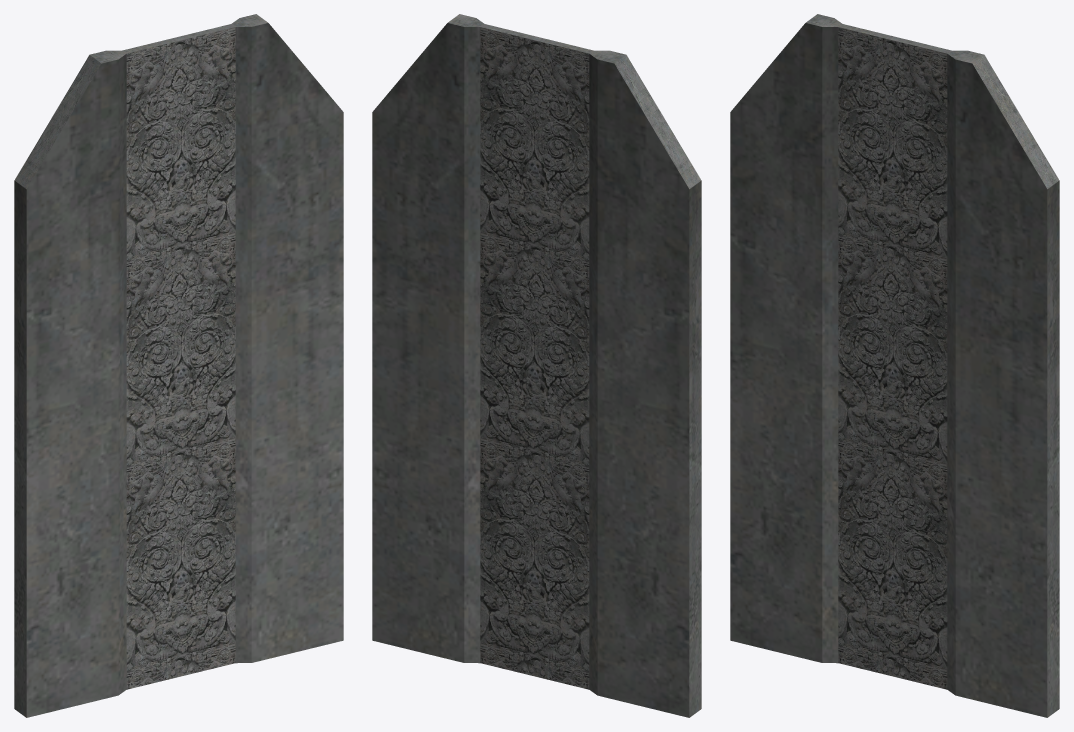
File: door_djt_hall_tall_l0.fbx
The picture shows the model from 3 angles, left to right: view 1: azimuth 30°, elevation 25°; view 2: azimuth 150°, elevation 25°; view 3: azimuth 330°, elevation 25°; orthographic projection.
Parts seen in each view (by area): view 1: mesh_node; view 2: mesh_node; view 3: mesh_node.
Part boxes in pixels (box(x1,y1,x2,y2)): mesh_node: box(14, 14, 343, 717); mesh_node: box(372, 14, 701, 717); mesh_node: box(730, 14, 1059, 717).
Size of the model in its own units: 3.17 by 6.08 by 0.2101.
